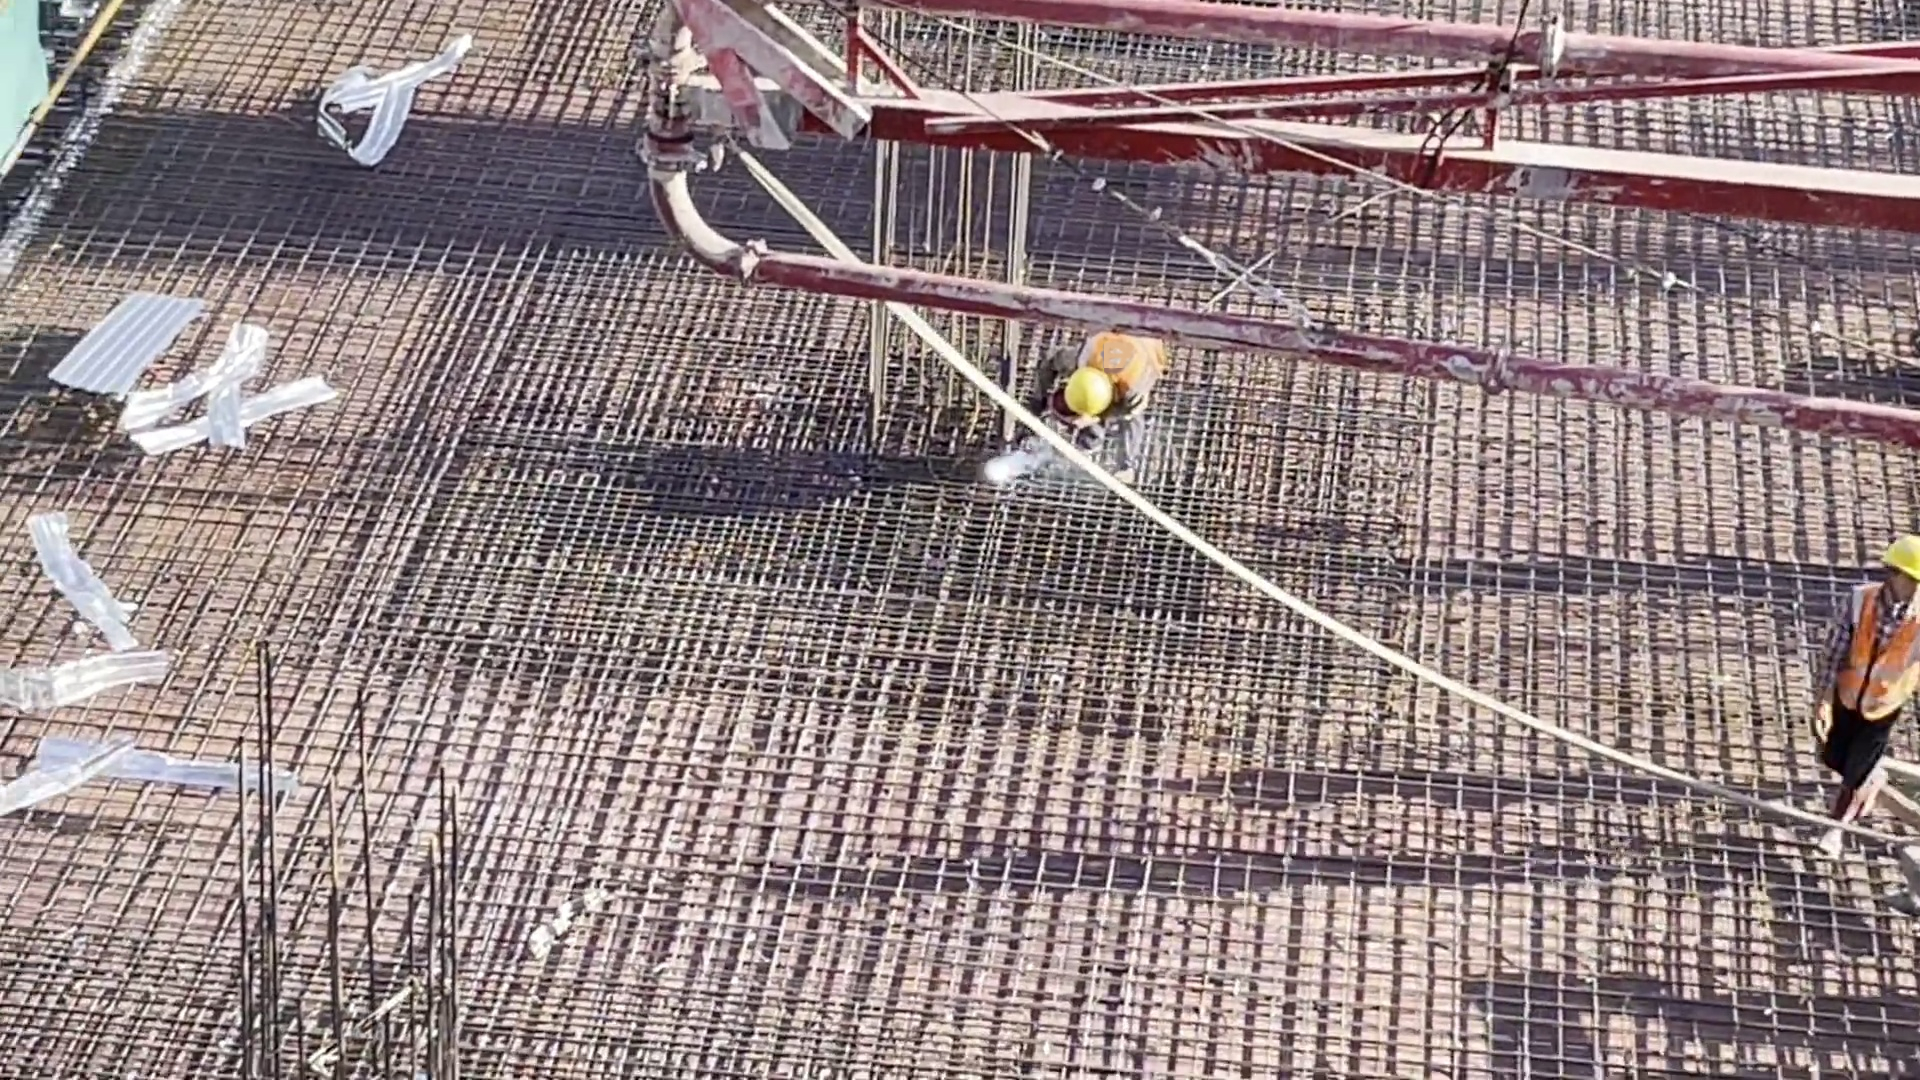helmet: (1063, 367, 1112, 424), (1880, 539, 1920, 583)
person: (1810, 526, 1920, 813), (1041, 327, 1164, 495)
vest: (1837, 605, 1909, 727), (1076, 324, 1159, 393)
